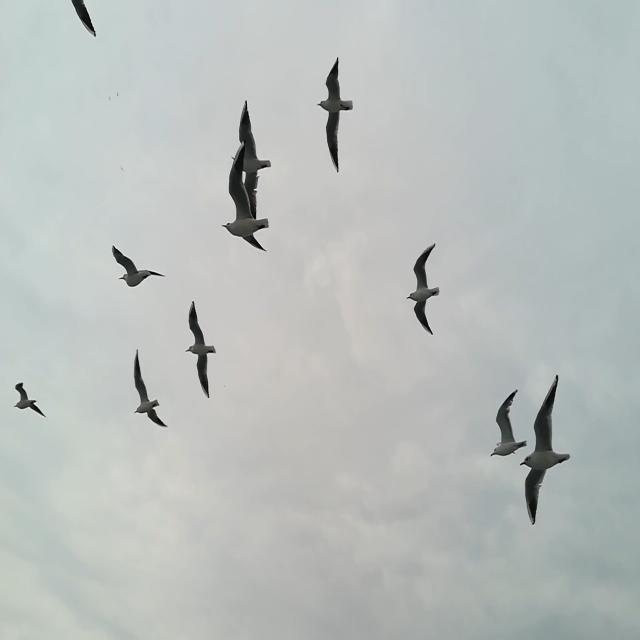bird: (519, 375, 570, 524), (230, 98, 272, 230), (220, 140, 267, 253), (316, 58, 354, 176), (406, 241, 441, 337), (132, 347, 170, 430), (185, 302, 217, 398), (112, 245, 166, 289), (491, 390, 525, 458), (13, 381, 47, 418), (69, 0, 98, 39), (119, 164, 125, 173), (108, 95, 112, 103), (116, 91, 119, 97)
